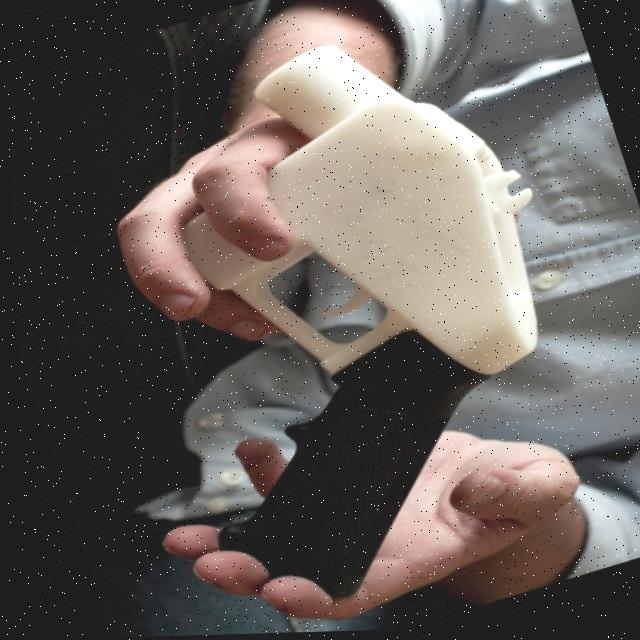pistol: (73, 0, 632, 629)
